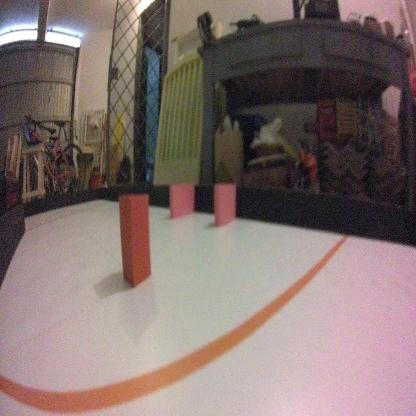magenta: (208, 182, 238, 228), (167, 180, 195, 222)
red: (118, 188, 152, 289)
